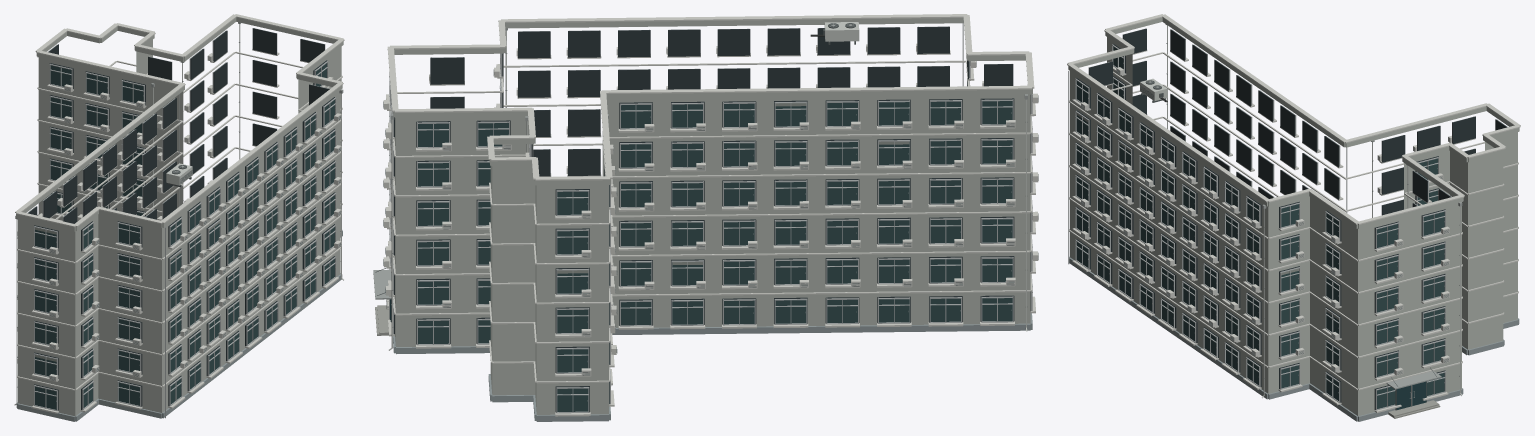
The model's file is osm_way_225198910.glb.
The picture shows the model from 3 angles, left to right: view 1: azimuth 30°, elevation 25°; view 2: azimuth 150°, elevation 25°; view 3: azimuth 270°, elevation 25°; orthographic projection. The views are drawn at different scales.
Parts seen in each view (by area): view 1: Windows and facade details | 24, Architecture | 24, Roof services | 24, EXTERIOR::osm_way_225198910::rainwater and roof service deta; view 2: Architecture | 24, Windows and facade details | 24, Roof services | 24, EXTERIOR::osm_way_225198910::rainwater and roof service deta, EXTERIOR::osm_way_225198910::inferred entry doors canopy and; view 3: Architecture | 24, Windows and facade details | 24, Roof services | 24, EXTERIOR::osm_way_225198910::inferred entry doors canopy and, EXTERIOR::osm_way_225198910::rainwater and roof service deta.
Part boxes in pixels (x1,y1,x2,y2): Windows and facade details | 24: (17, 28, 341, 418); Architecture | 24: (16, 17, 343, 421); Roof services | 24: (15, 14, 344, 227); EXTERIOR::osm_way_225198910::rainwater and roof service deta: (14, 22, 343, 405); Architecture | 24: (391, 18, 1032, 421); Windows and facade details | 24: (383, 23, 1038, 416); Roof services | 24: (387, 14, 1034, 180); EXTERIOR::osm_way_225198910::rainwater and roof service deta: (388, 22, 1027, 350); EXTERIOR::osm_way_225198910::inferred entry doors canopy and: (373, 267, 391, 335); Architecture | 24: (1068, 17, 1519, 421); Windows and facade details | 24: (1068, 28, 1507, 412); Roof services | 24: (1067, 14, 1520, 224); EXTERIOR::osm_way_225198910::inferred entry doors canopy and: (1386, 367, 1441, 418); EXTERIOR::osm_way_225198910::rainwater and roof service deta: (1140, 24, 1462, 398).
Size of the model in its own units: 44.74 by 20.58 by 40.86.
